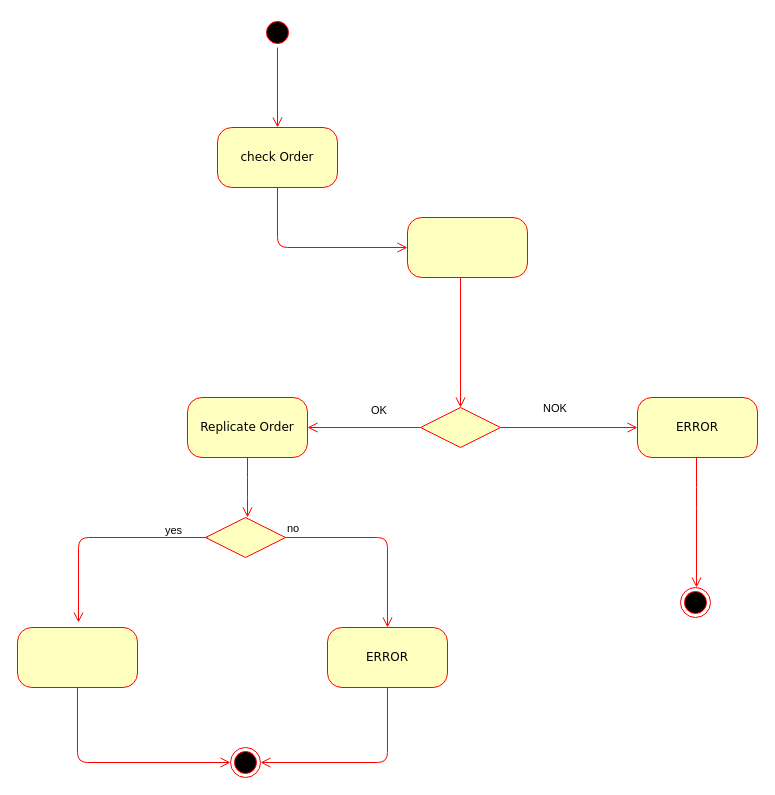
The diagram is 775 pixels wide and 795 high, and some of its shapes have lost their labels. Here are the shapes that lost their labels. From the top down, the box of each, then its label:
(406, 216, 528, 278): Bring Msisdn
(16, 626, 138, 688): SUCCESS
